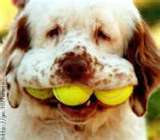tennis ball: (94, 75, 135, 106), (51, 79, 96, 106), (23, 76, 55, 102)
